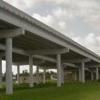Bridge: (13, 2, 93, 84)
